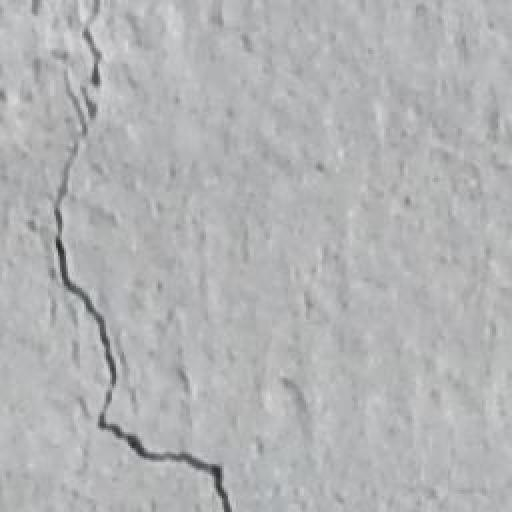spalling: (48, 7, 241, 509)
